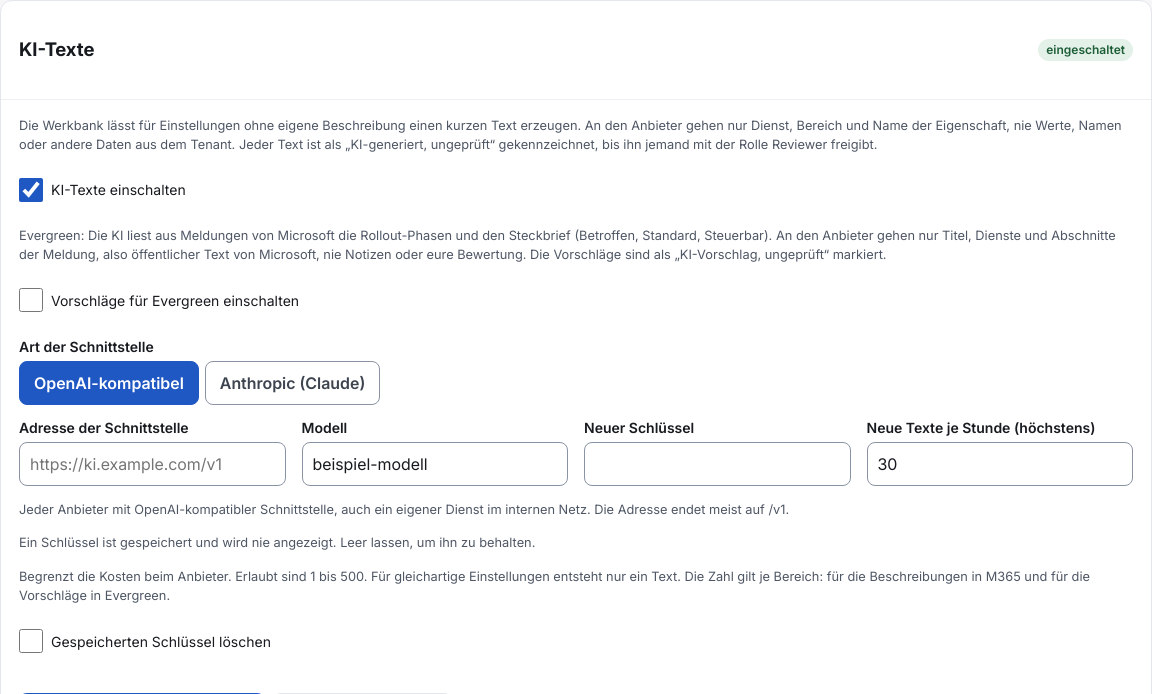
Test: AiSettings › schaltet auf Anthropic und setzt bei leerer Adresse die Adresse von Anthropic
What coordinates should you click on to do the following:
click the button "Anthropic (Claude)"
I would click on:
 (293, 383)
Its box is [205,361,380,405].
(page scrolled)
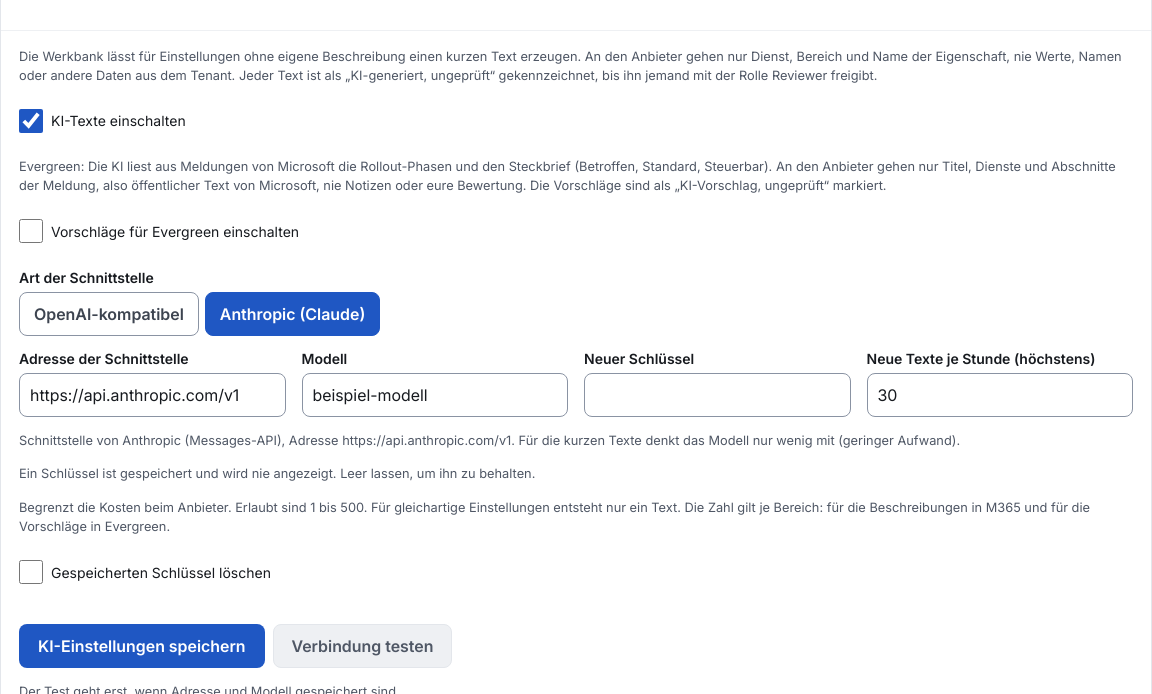
Check: the field labelled "Adresse der Schnittstelle" holds "https://api.anthropic.com/v1", box [19,373,286,417]
Check: the text "denkt das Modell nur wenig mit" is shown, box [19,433,960,448]
What coordinates should you click on to do the following:
click the button "KI-Einstellungen speichern"
I would click on:
 (142, 646)
Its box is [19,624,265,668].
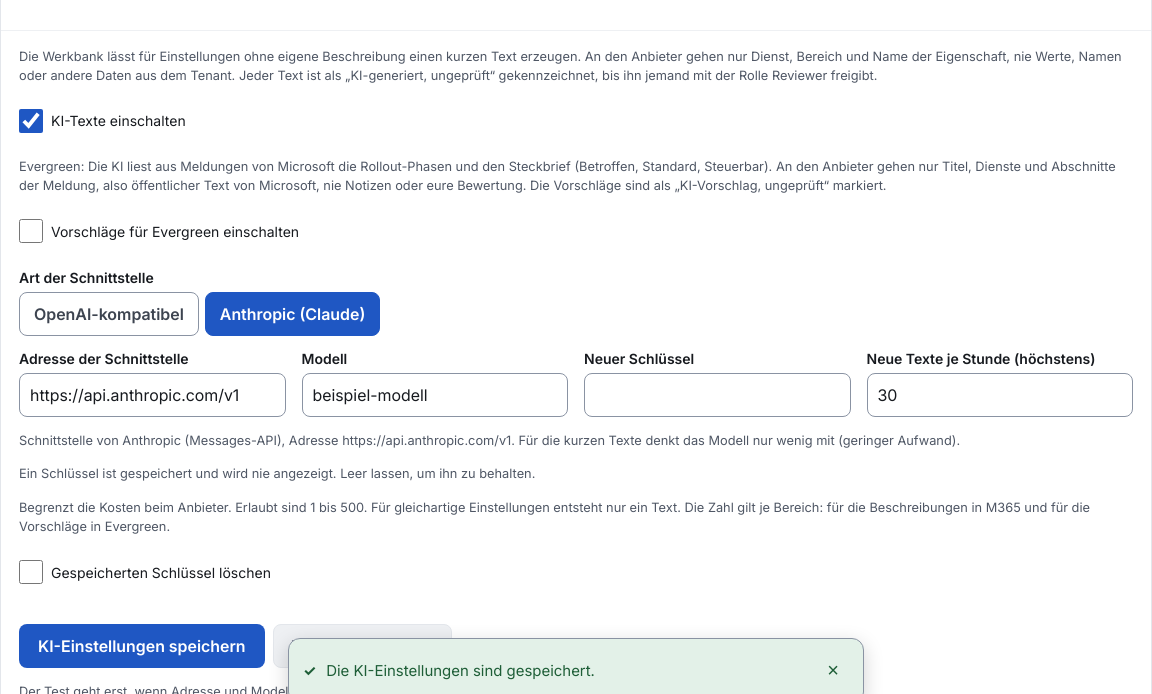
Check: the text "Die KI-Einstellungen sind gespeichert." is shown, box [326,660,595,680]
